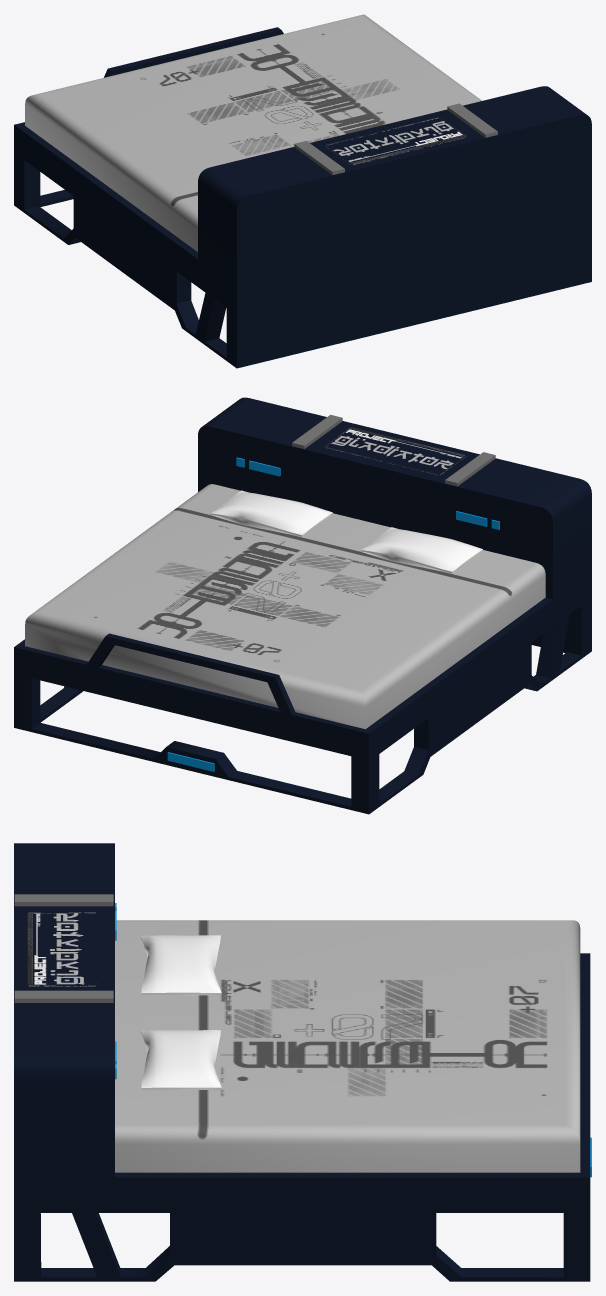
File: Bed_Sci-Fi.fbx
The picture shows the model from 3 angles, top to bottom: view 1: azimuth 30°, elevation 25°; view 2: azimuth 150°, elevation 25°; view 3: azimuth 270°, elevation 25°; orthographic projection. The views are drawn at different scales.
Visible parts, largest first — view 1: Bed; view 2: Bed; view 3: Bed.
Boxes of the visible parts, <box> form: Bed: <box>14,14,591,368</box>; Bed: <box>14,397,591,814</box>; Bed: <box>14,843,591,1281</box>.
Bounding box in the file's own units: 2.3 × 1.07 × 2.51.
6 materials, 2 textured.
